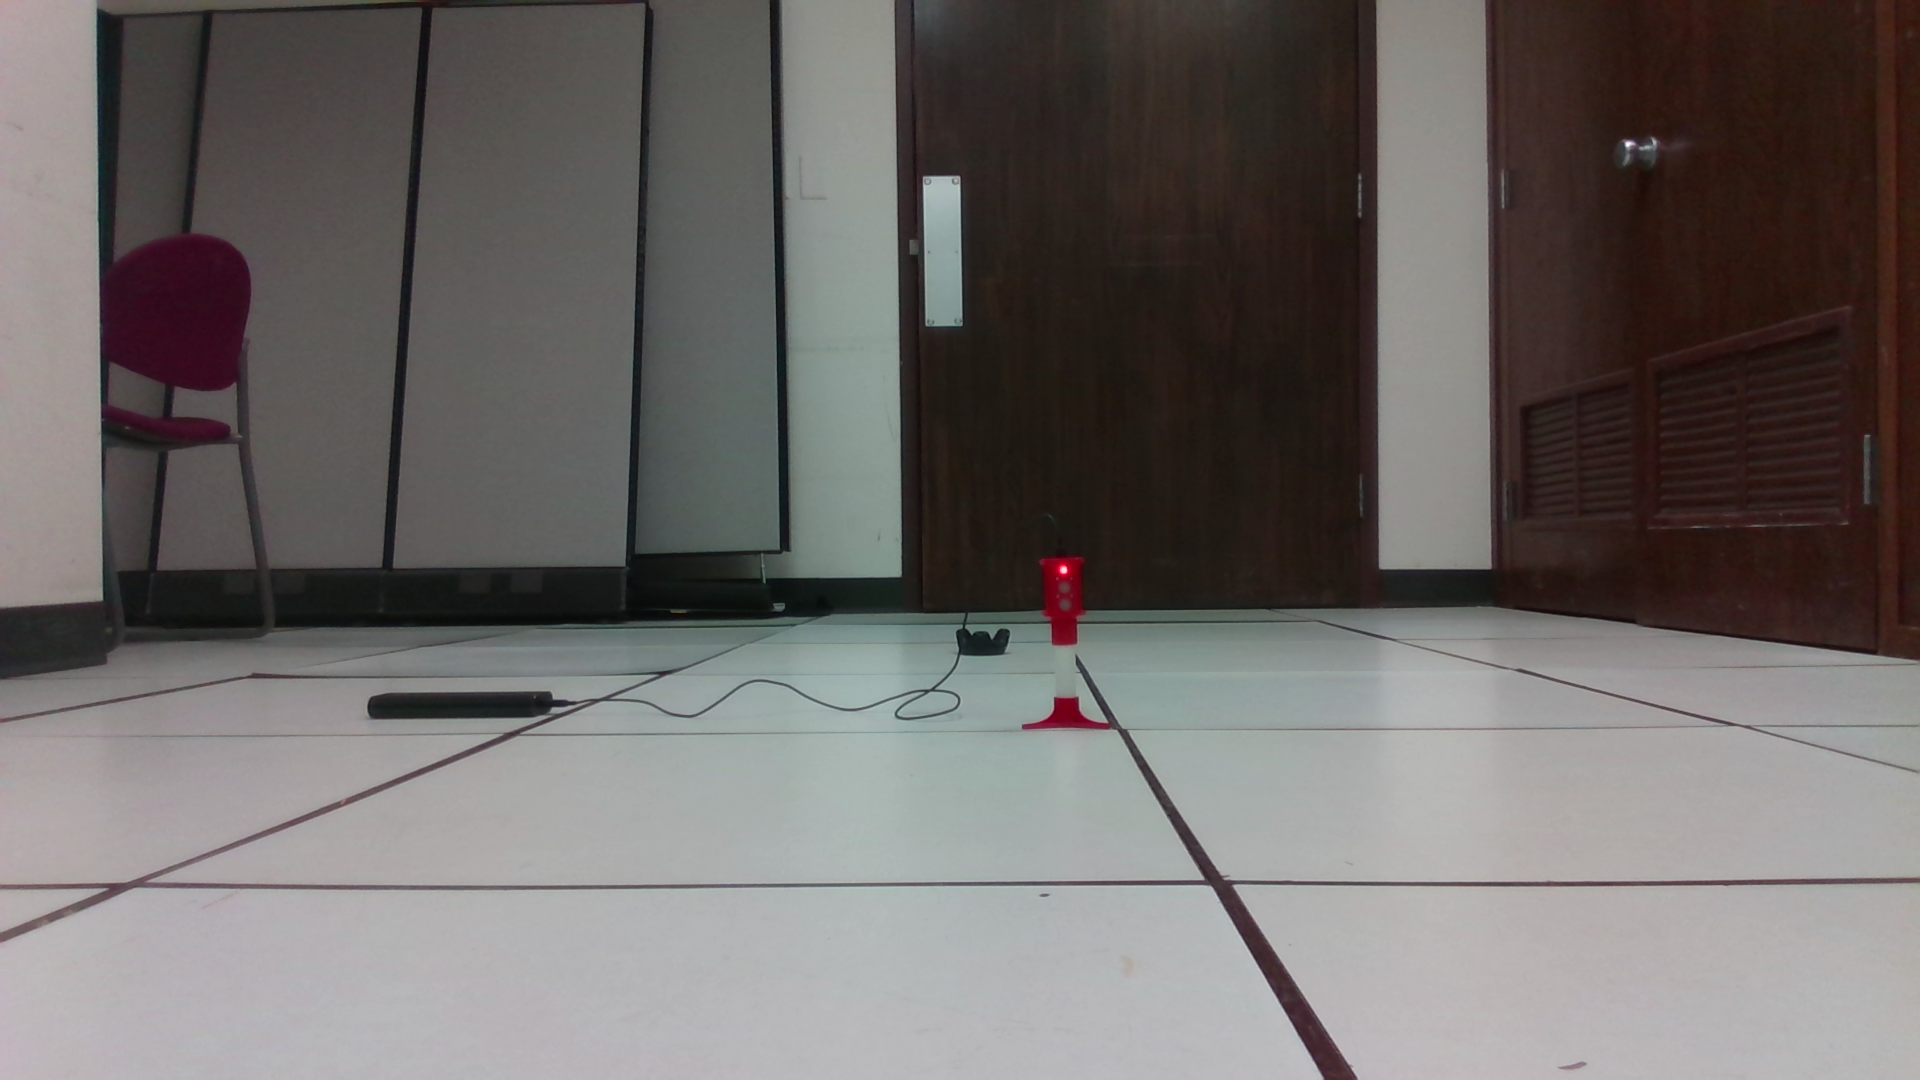stoplight: (1040, 553, 1088, 650)
